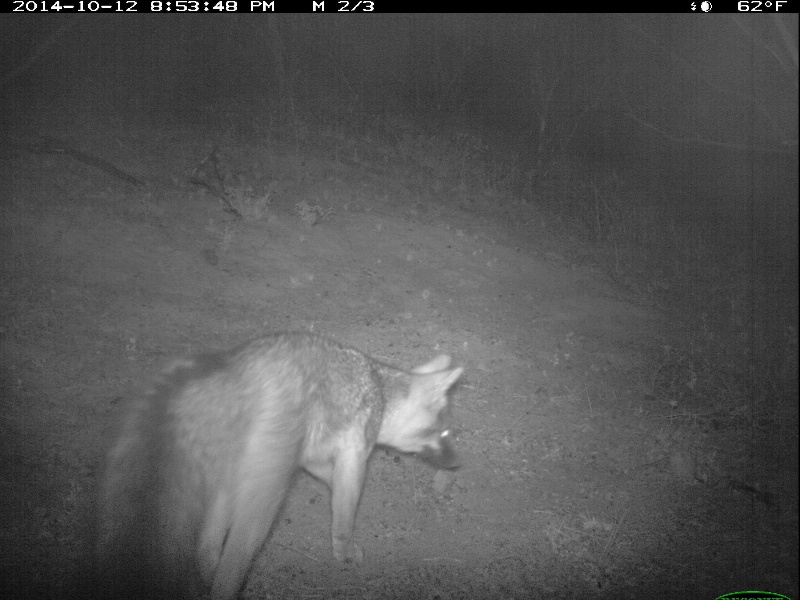fox: (93, 326, 469, 600)
